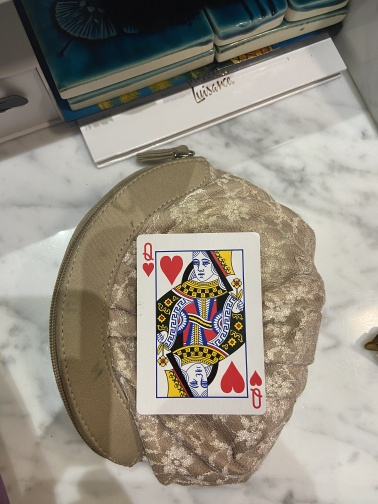queen: (134, 231, 267, 417)
